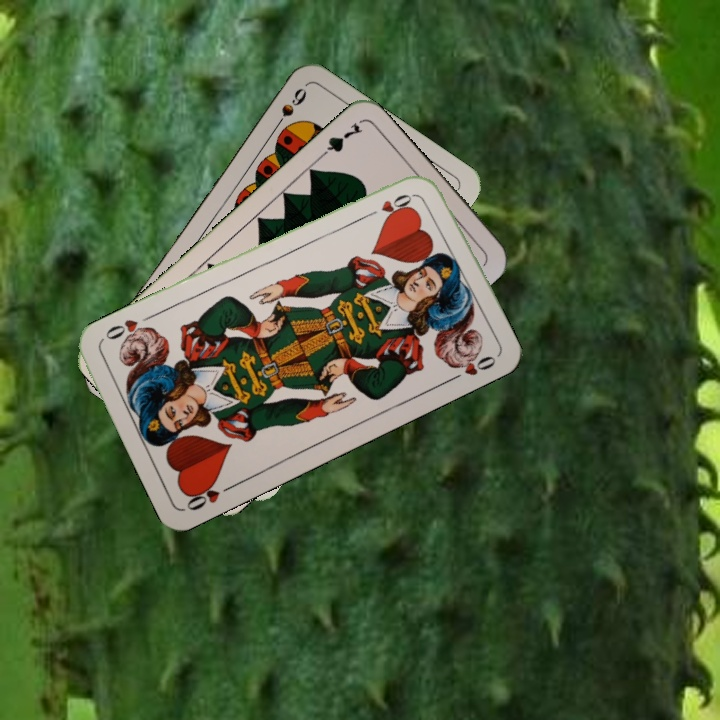G7: (313, 118, 365, 163)
HO: (182, 477, 237, 513), (362, 189, 418, 220)
S9: (268, 83, 310, 135)
